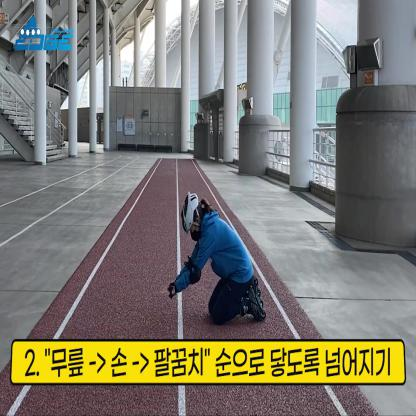Fall_Down: (159, 191, 265, 323)
